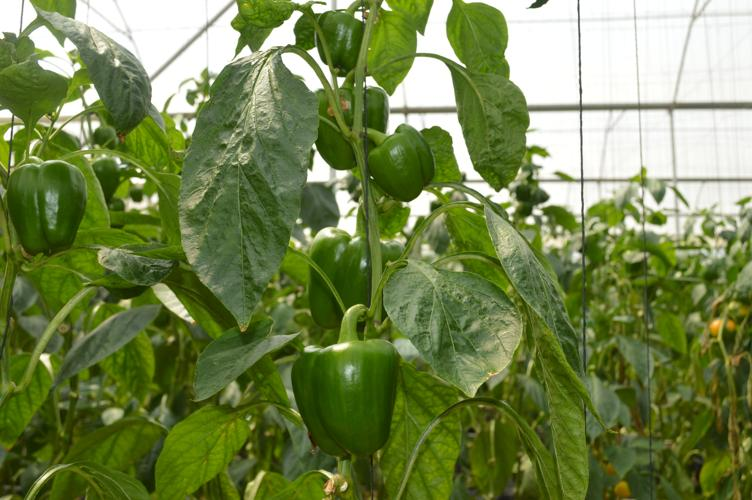BellPepper: (279, 342, 407, 469), (306, 228, 401, 329), (7, 163, 86, 251), (313, 87, 387, 169), (369, 123, 435, 197), (307, 12, 360, 66)
